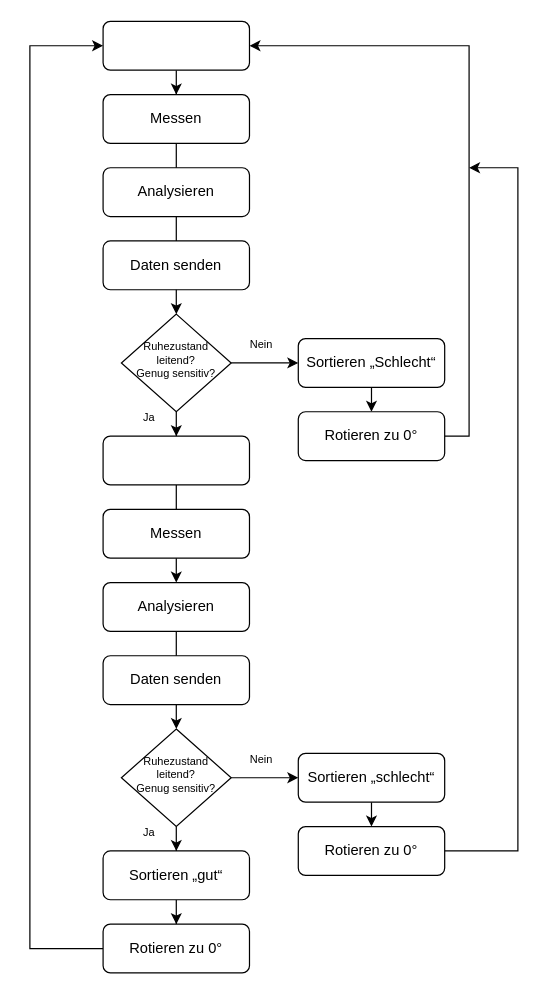
This 549x994 diagram has some shape labels left out. Each missing label, with the centre of its shape:
"MVS erkannt" belongs at pixel 175 45.
"Rotieren um 180°" belongs at pixel 175 460.
